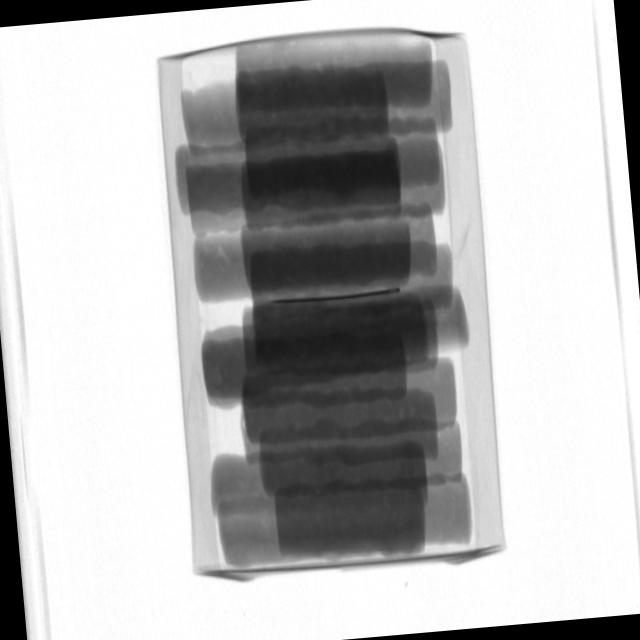ym: (269, 284, 402, 306)
